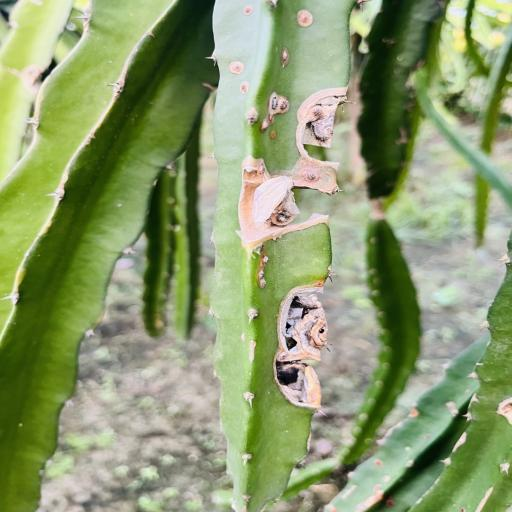stemcanker: (240, 3, 255, 18), (269, 131, 278, 141), (16, 422, 26, 428)
